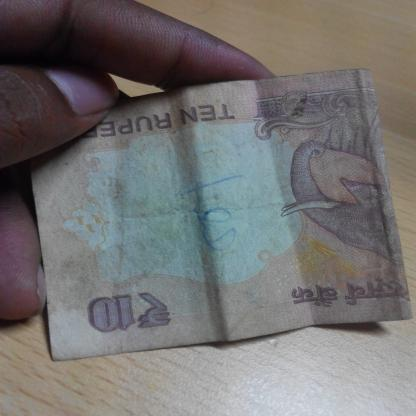Old10Back: (32, 68, 415, 362)
